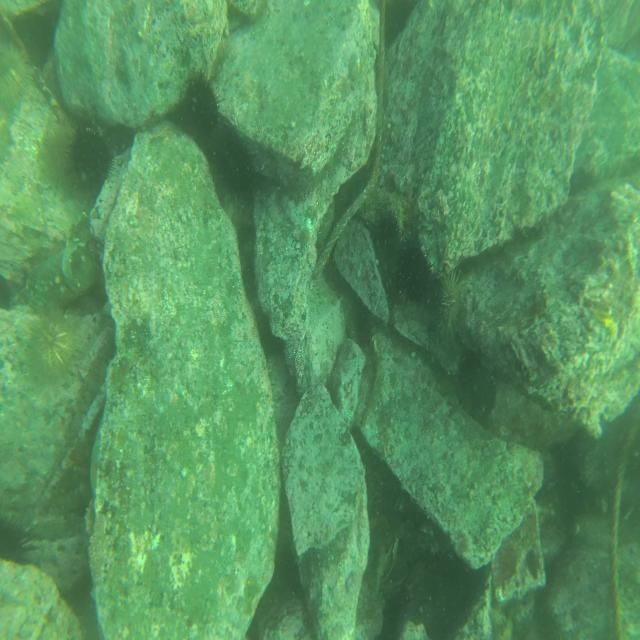echinus: (28, 303, 74, 381), (74, 121, 118, 193), (216, 134, 257, 199), (182, 71, 220, 141), (41, 120, 77, 188), (398, 240, 432, 308), (434, 268, 465, 336), (0, 42, 31, 108)
